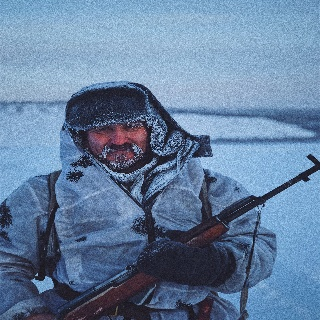rifle: (54, 153, 320, 320)
